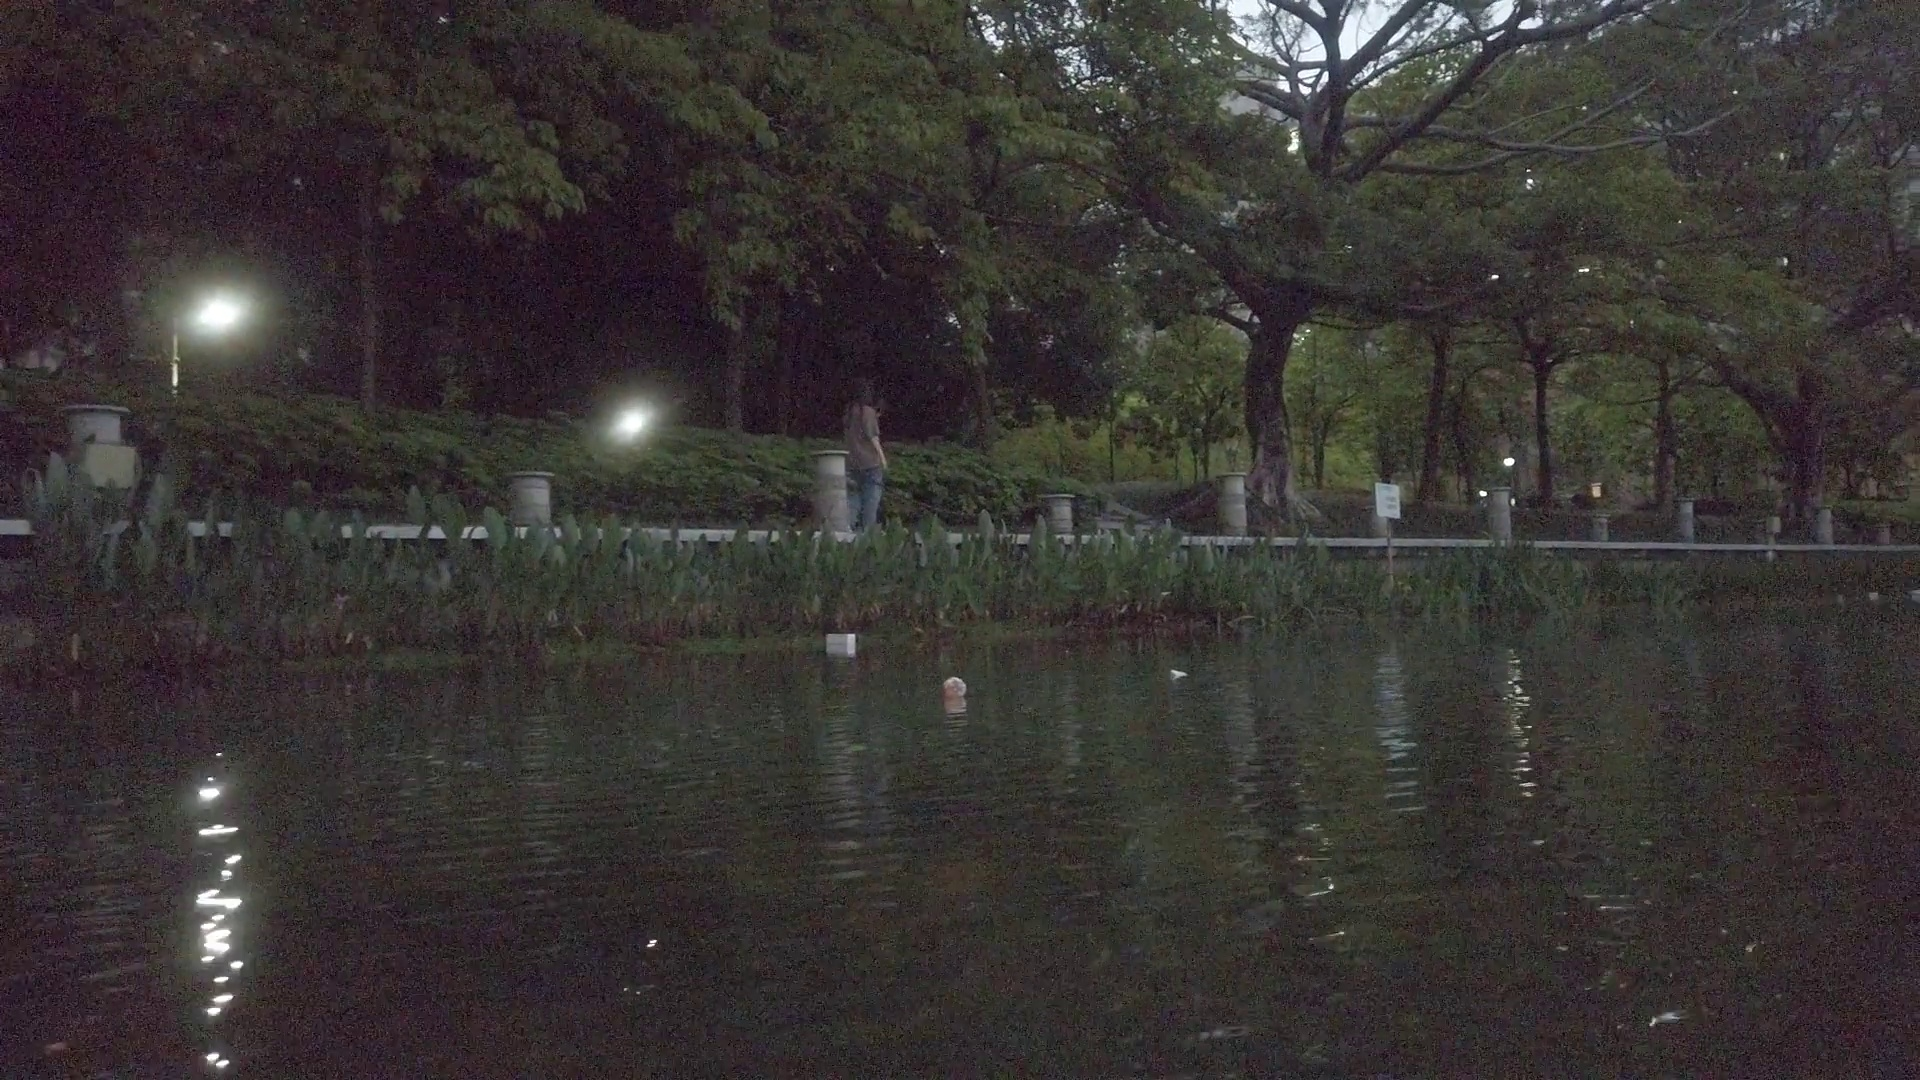bottle: (943, 674, 967, 700)
carton: (825, 632, 858, 646)
